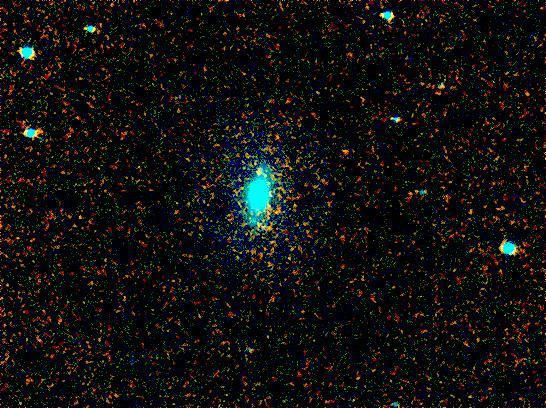star: (247, 151, 277, 181)
